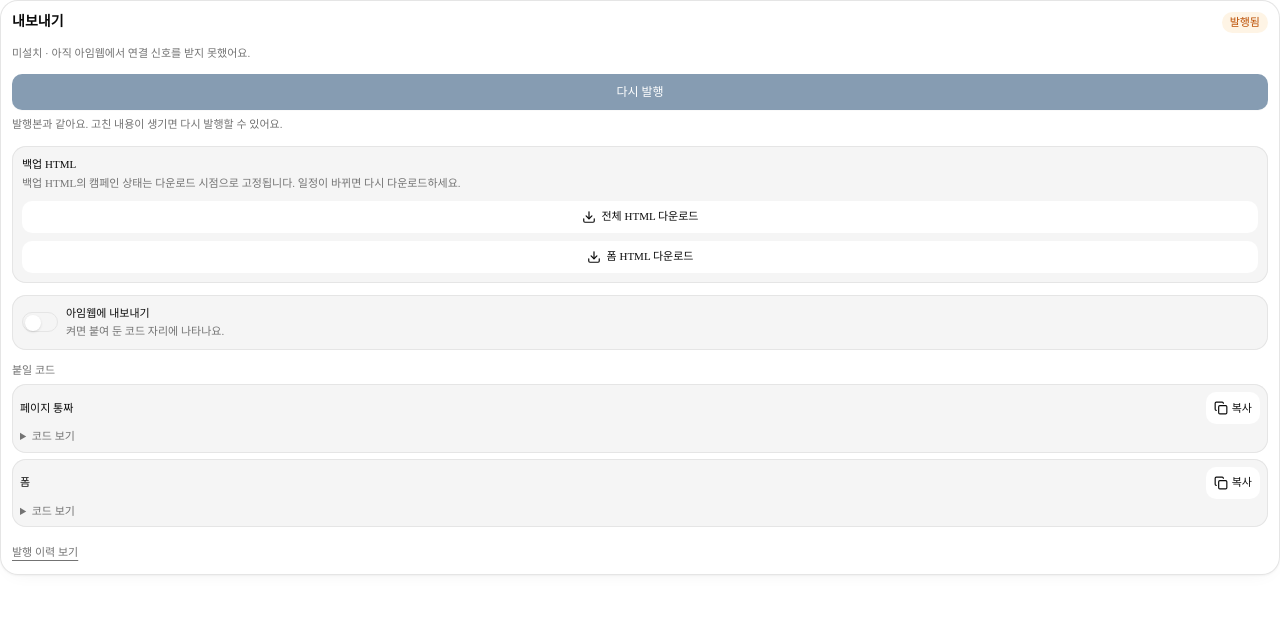
Scenario: 백업 HTML › shows structured export errors beside the affected scope
What coordinates should you click on to do the following:
click the button "폼 HTML 다운로드"
I would click on:
 (640, 257)
Its box is [22,241,1258,273].
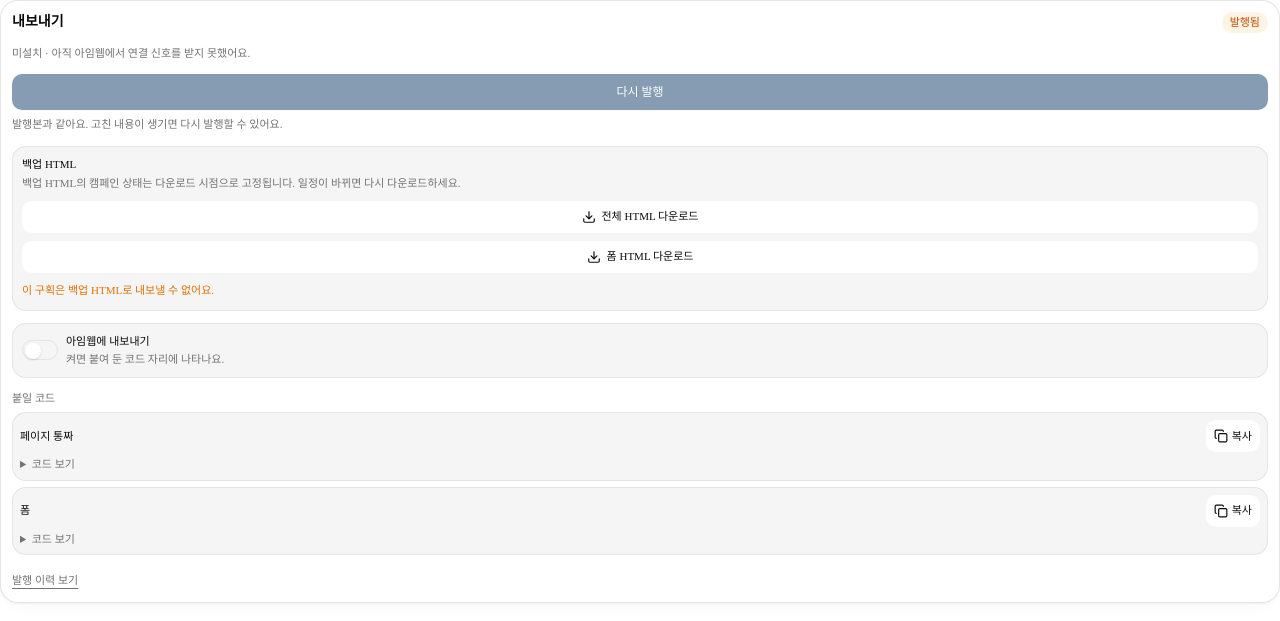
expect the text "이 구획은 백업 HTML로 내보낼 수 없어요." is shown: met, box [22,282,214,300]
